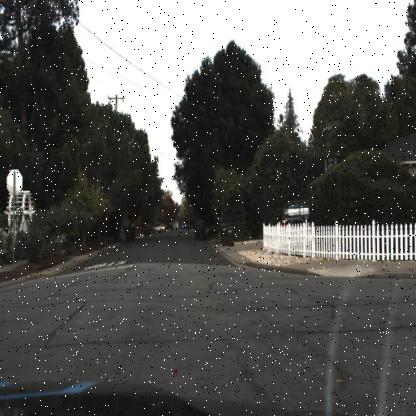car: (282, 195, 310, 228), (153, 222, 161, 234)
